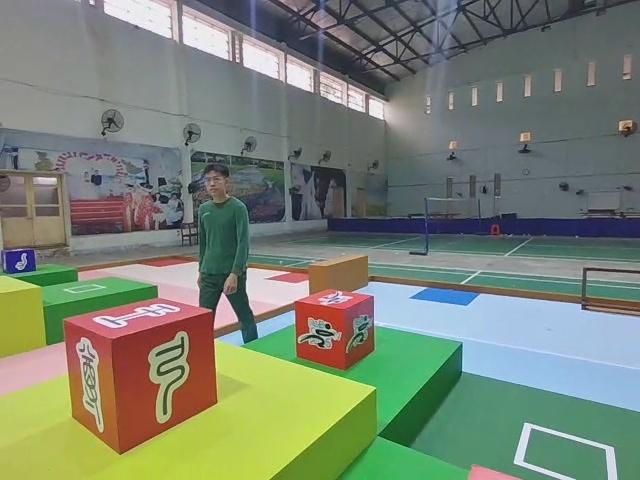R1: (293, 285, 378, 372)
R2 Fake: (59, 293, 221, 457)
